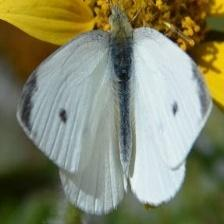butterfly: (17, 11, 213, 216)
